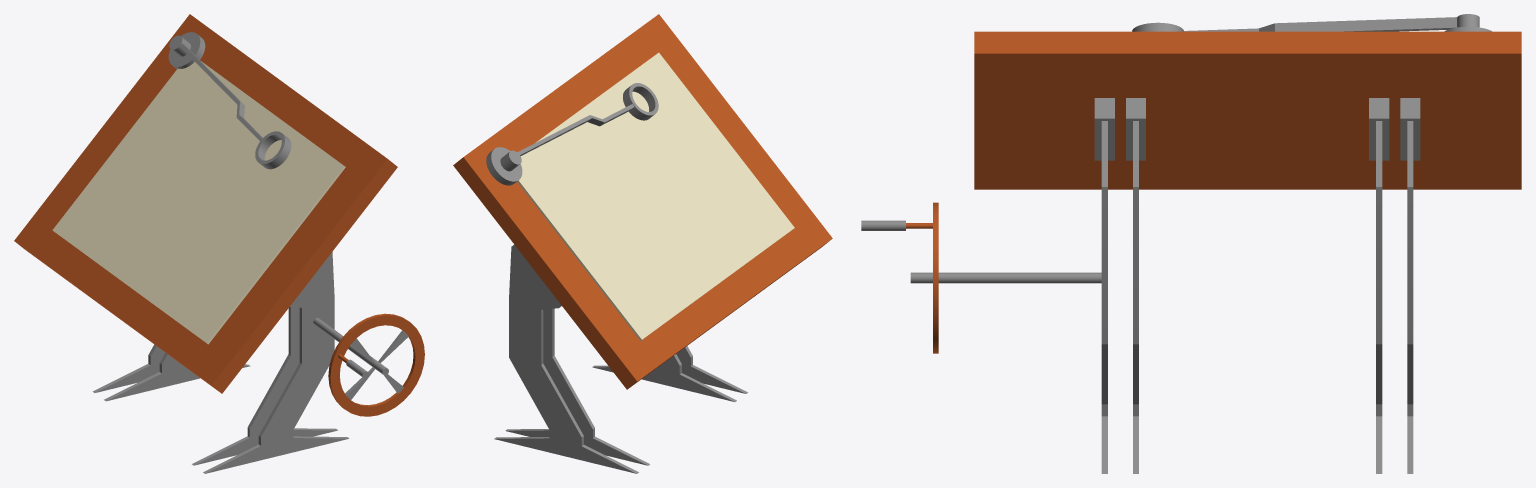
Rendered from alexc_drafters_table.fbx.
3 renders of one model, left to right at view 1: azimuth 30°, elevation 25°; view 2: azimuth 150°, elevation 25°; view 3: azimuth 270°, elevation 25°, orthographic. The views are drawn at different scales.
Parts seen in each view (by area): view 1: drafters table; view 2: drafters table; view 3: drafters table.
Part boxes in pixels (bbox=[...]): drafters table: bbox=[14, 14, 424, 473]; drafters table: bbox=[453, 14, 832, 473]; drafters table: bbox=[861, 14, 1521, 473].
Bounding box in the file's own units: 289 × 603 × 440.
